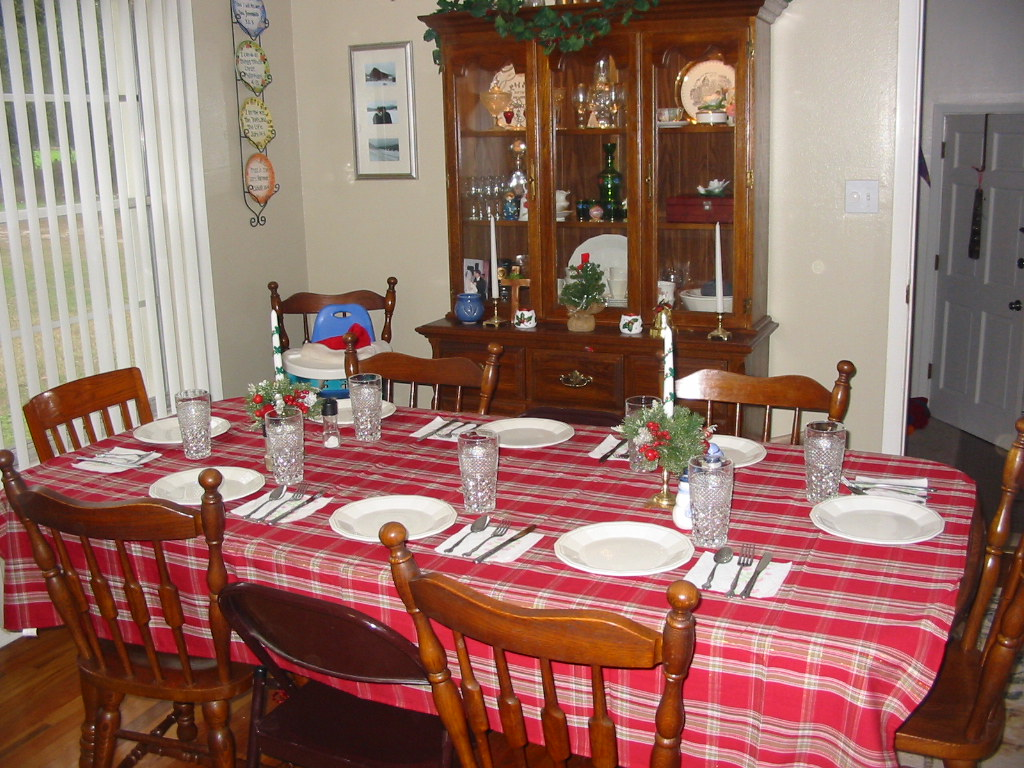dining table: (4, 366, 994, 721)
